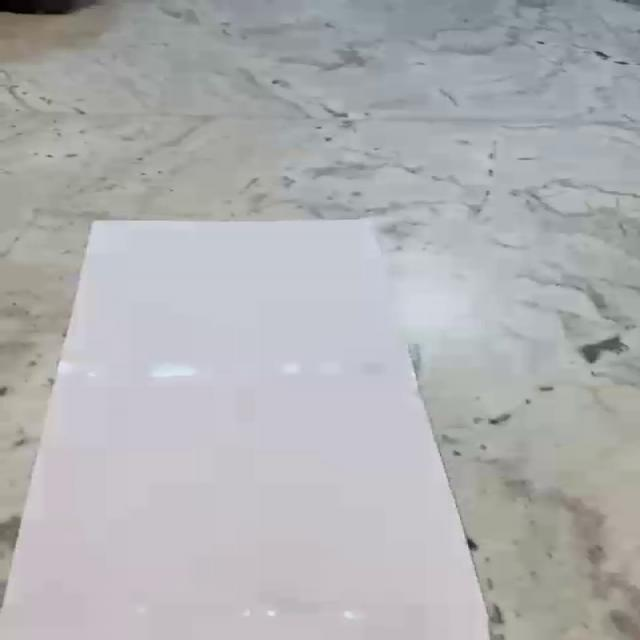road: (0, 220, 493, 640)
